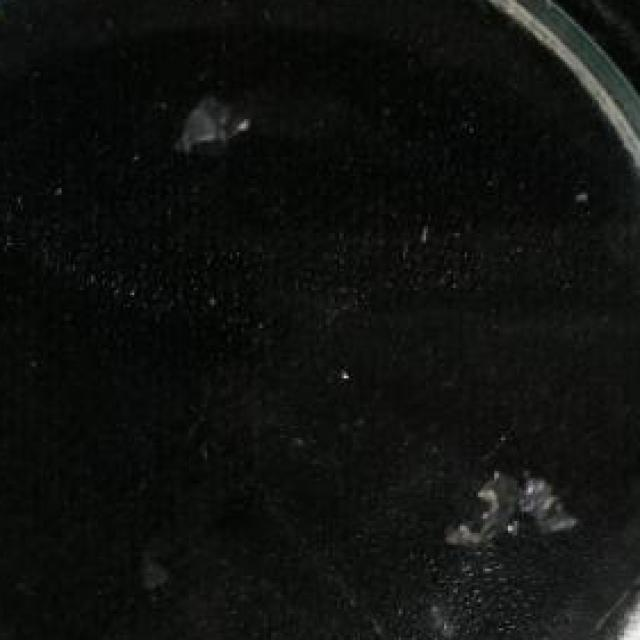Microplastic: (451, 452, 592, 550), (173, 78, 255, 154)
